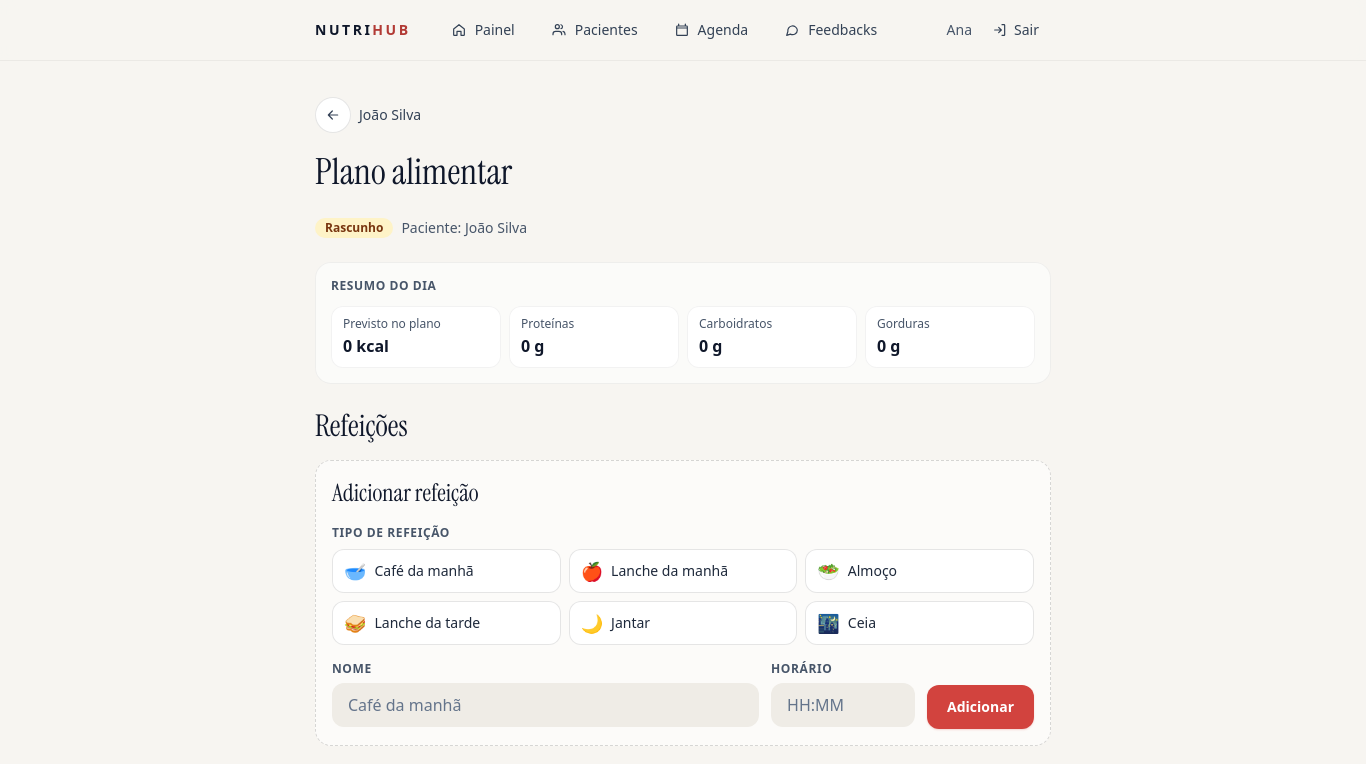
Test: ConstrutorDePlano — rascunho (RF-04) › adiciona uma refeição e recarrega o plano
In the field labelled "Nome": (546, 705) top-left (332, 683), bottom-right (759, 727), type "Almoço"
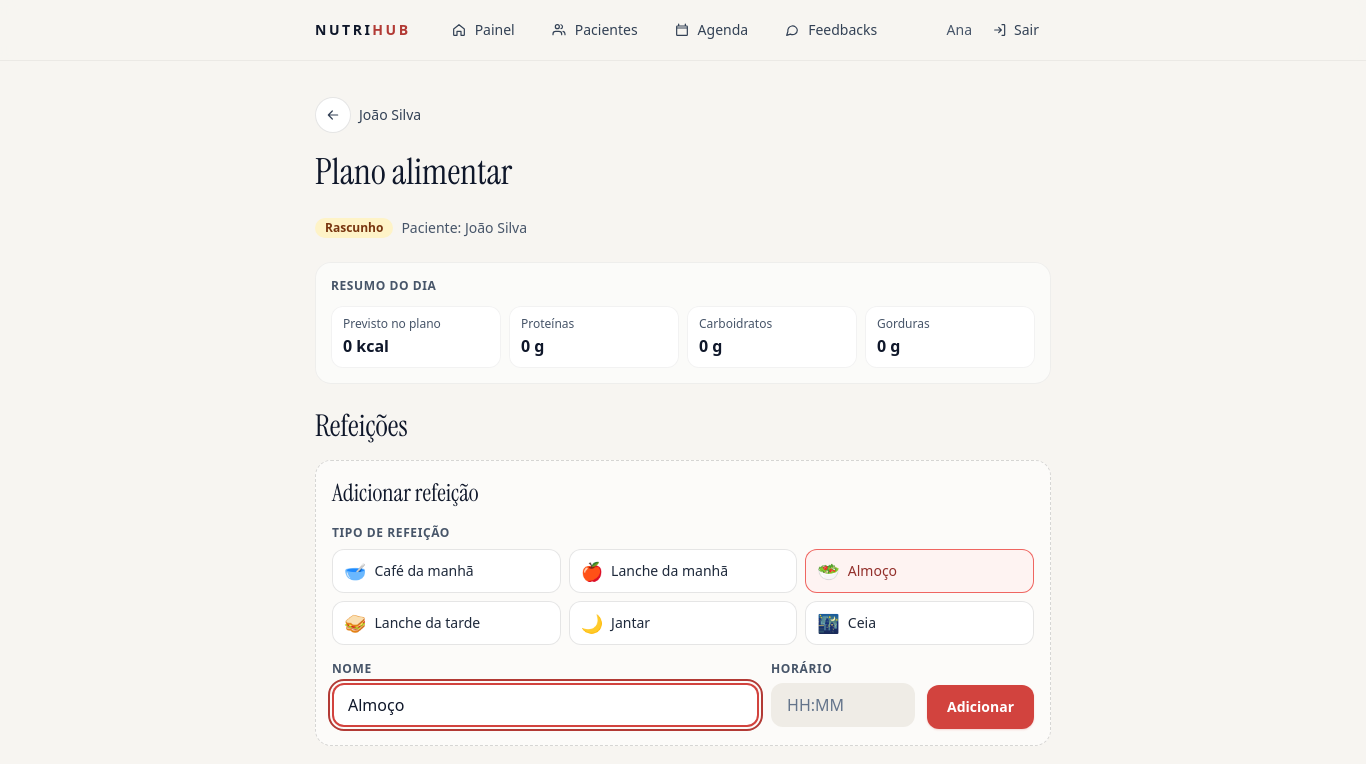
In the field labelled "Horário": (843, 705) top-left (771, 683), bottom-right (915, 727), type "12:00"
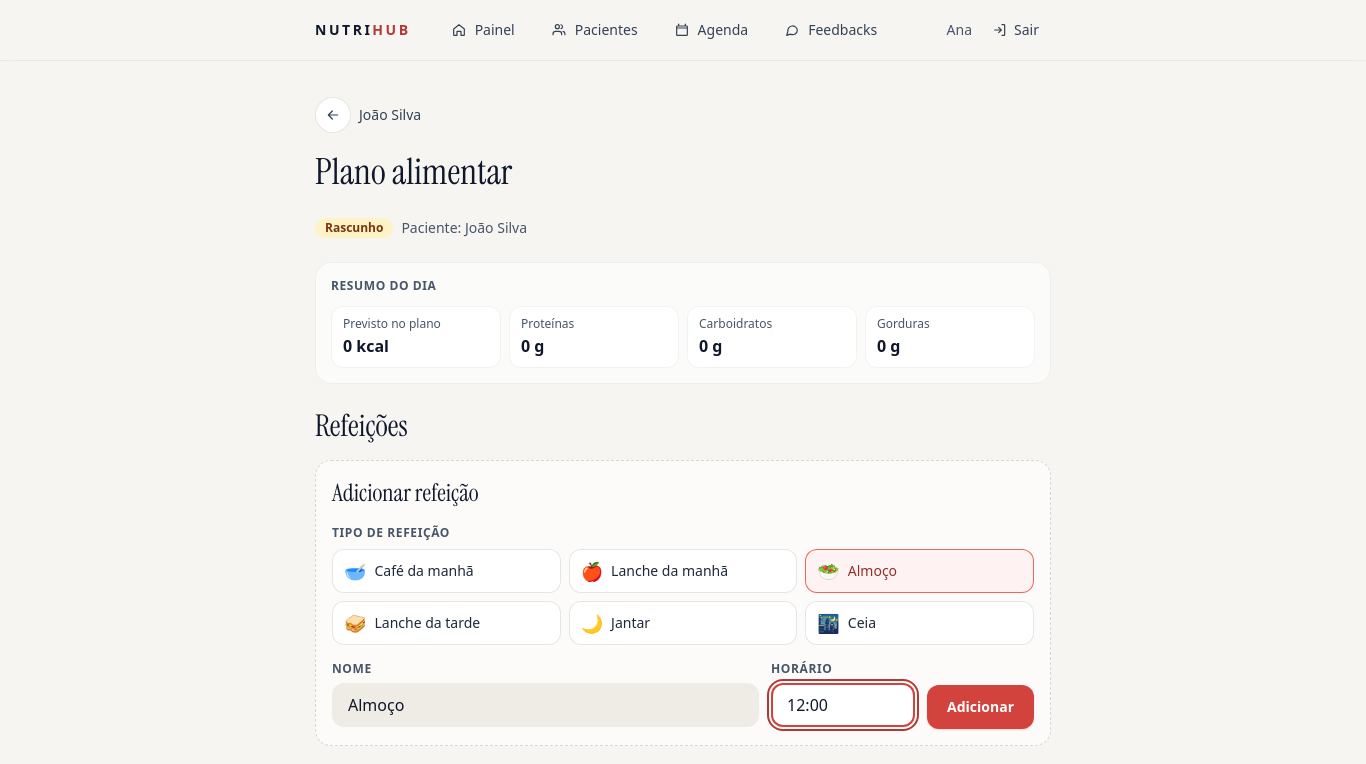
Click the button "Adicionar": (981, 707) top-left (927, 685), bottom-right (1034, 729)
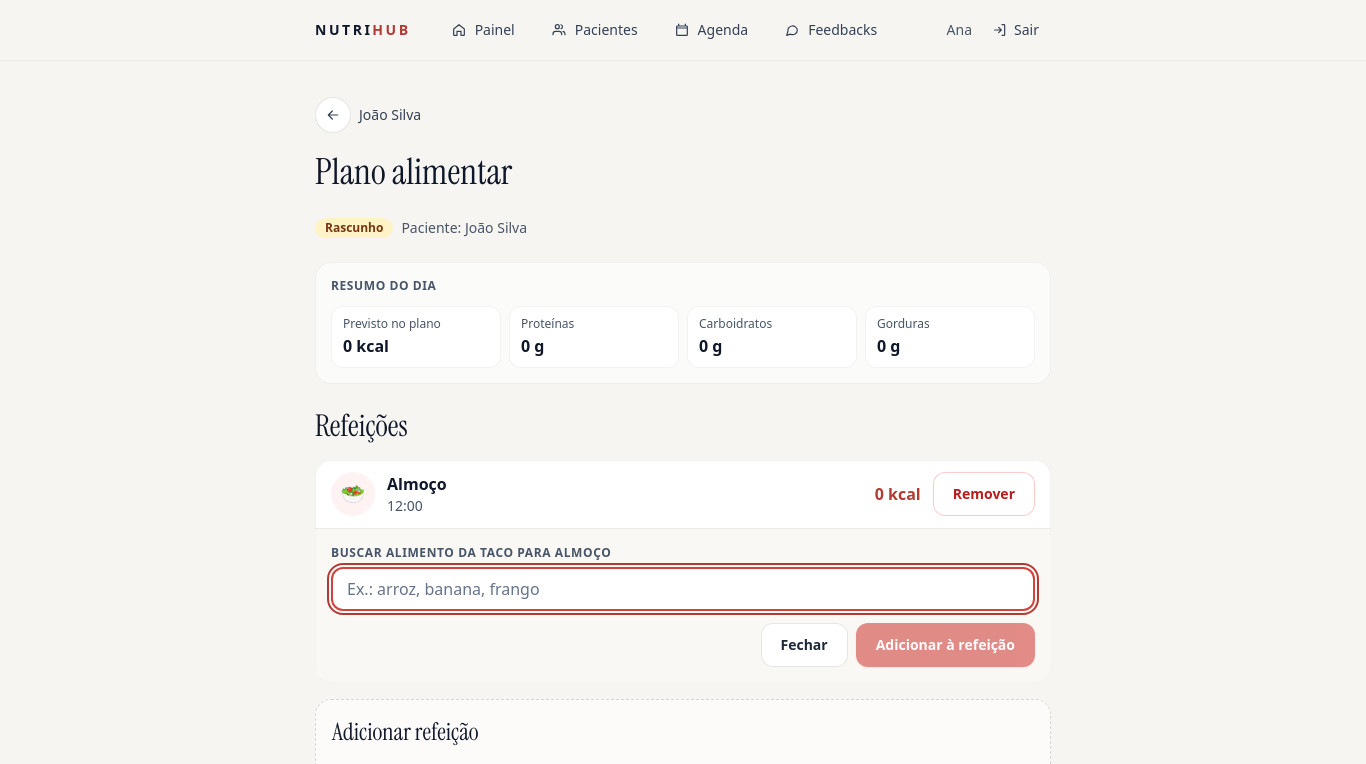
Check: the heading "Almoço 12:00" is shown, box top-left (387, 472), bottom-right (447, 516)
